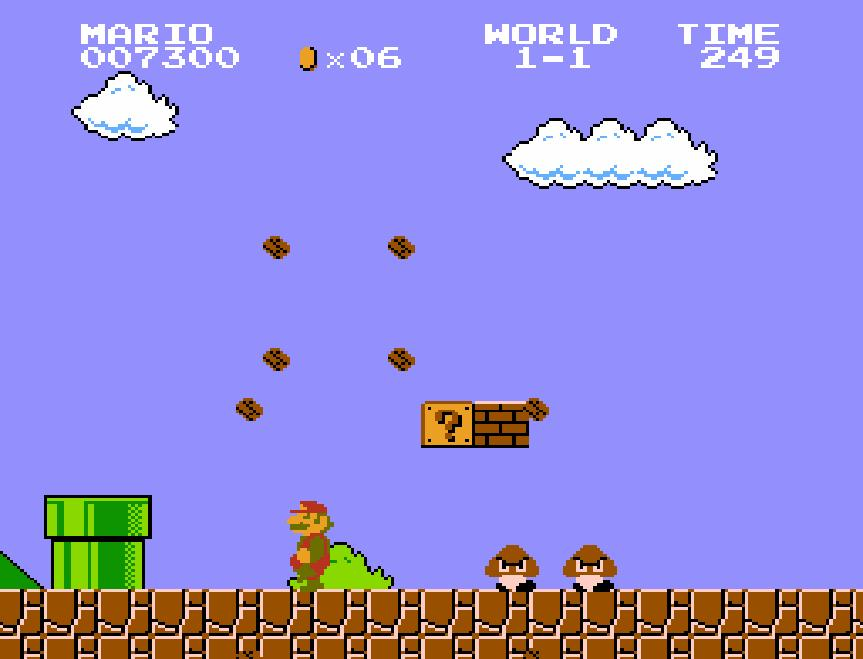big_mario: (280, 496, 338, 594)
